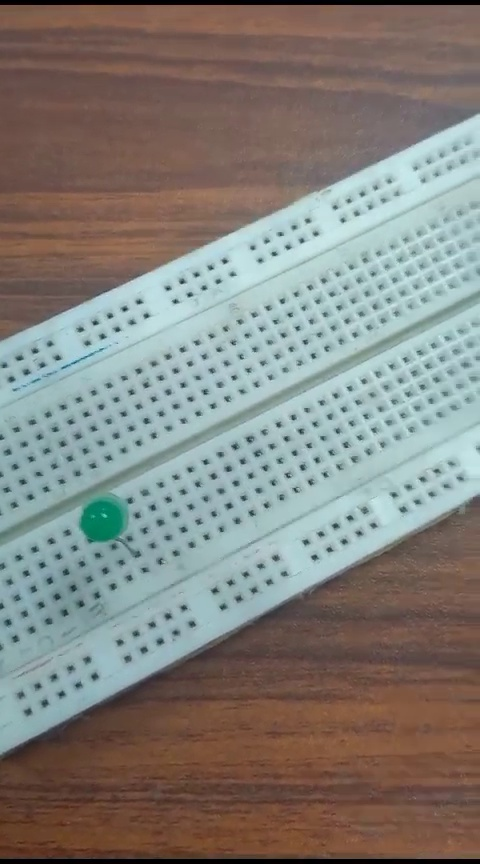LED: (71, 489, 134, 552)
